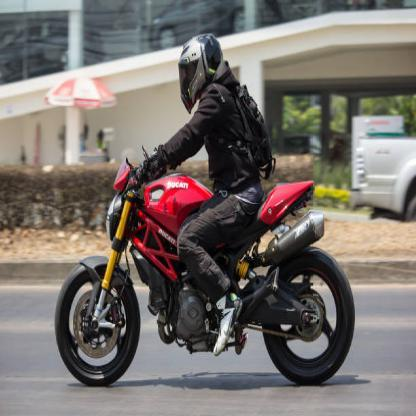Motorcycle: (54, 149, 357, 392)
